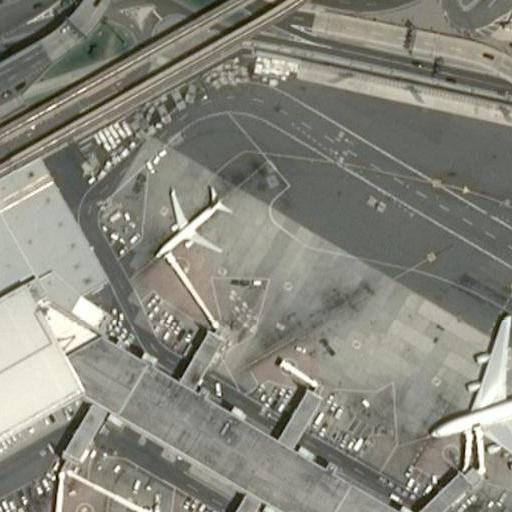Aircraft: (418, 310, 512, 491), (148, 183, 232, 258), (112, 498, 185, 512)
